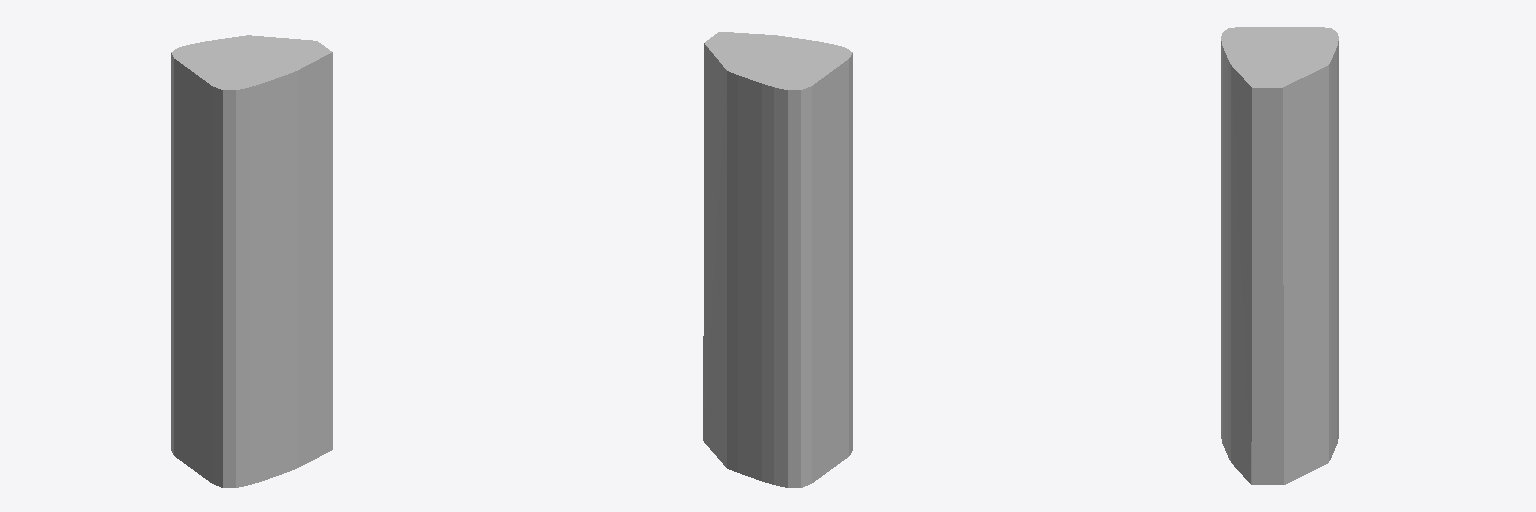
File: Window_Slider_48x36_collision_11.obj
The picture shows the model from 3 angles: view 1: azimuth 30°, elevation 25°; view 2: azimuth 150°, elevation 25°; view 3: azimuth 270°, elevation 25°; orthographic projection.
Size of the model in its own units: 0.1164 by 0.3534 by 0.0947.